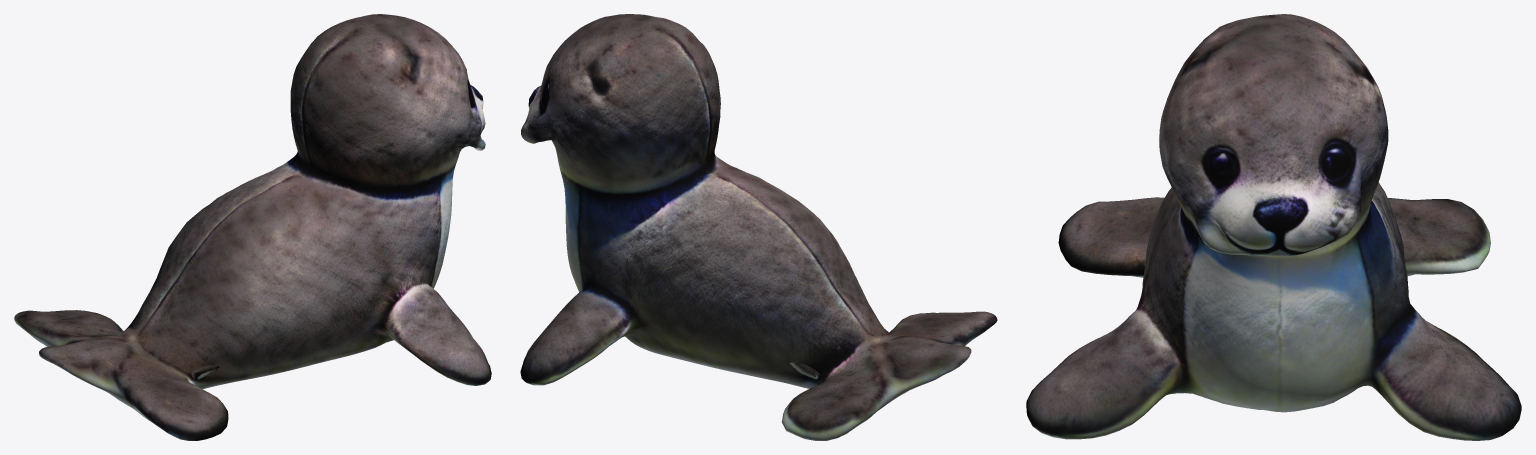
File: Seal_Doll.fbx
3 renders of one model, left to right at view 1: azimuth 30°, elevation 25°; view 2: azimuth 150°, elevation 25°; view 3: azimuth 270°, elevation 25°, orthographic. The views are drawn at different scales.
Visible parts, largest first — view 1: mesh; view 2: mesh; view 3: mesh.
Boxes of the visible parts, <box> form: mesh: <box>14,14,491,440</box>; mesh: <box>520,14,997,440</box>; mesh: <box>1026,14,1521,440</box>.
Bounding box in the file's own units: 0.9964 × 0.6851 × 0.7531.
